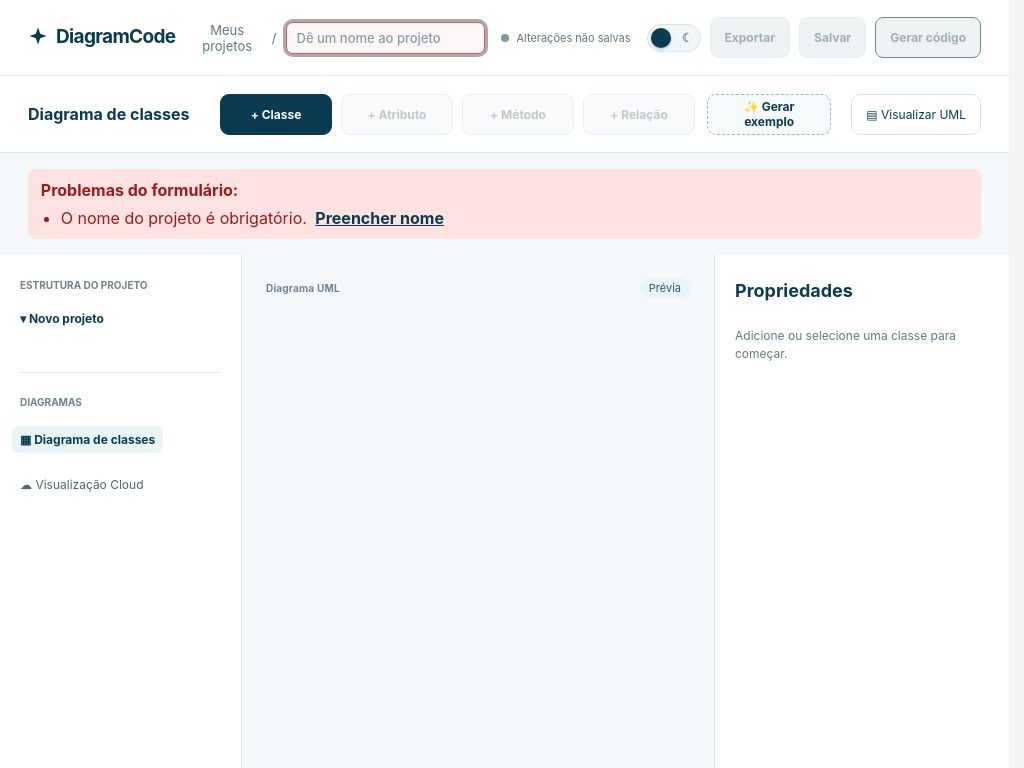
Test: FE-17 — CRUD de classes e seleção › exclui a classe quando o usuário confirma
The image size is (1024, 768).
Click the button "+ Classe" at {"x": 276, "y": 114}, box [220,94,332,134]
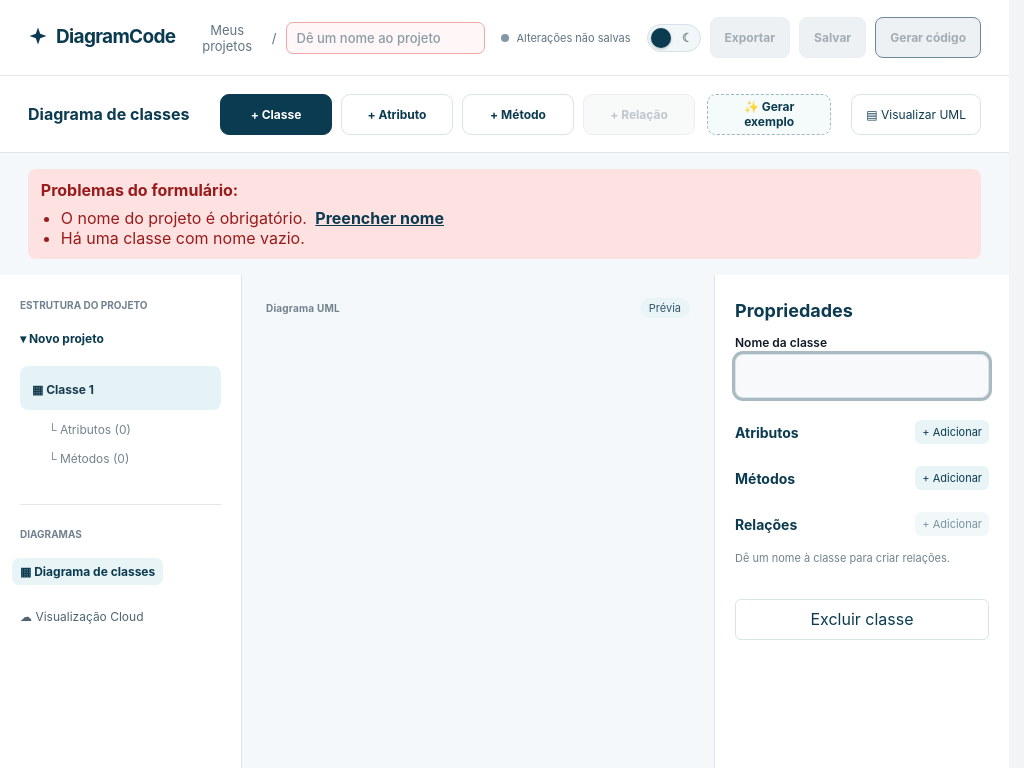
expect the button "Excluir classe" is shown: met
Click the button "Excluir classe" at {"x": 862, "y": 620}, box [735,599,989,640]
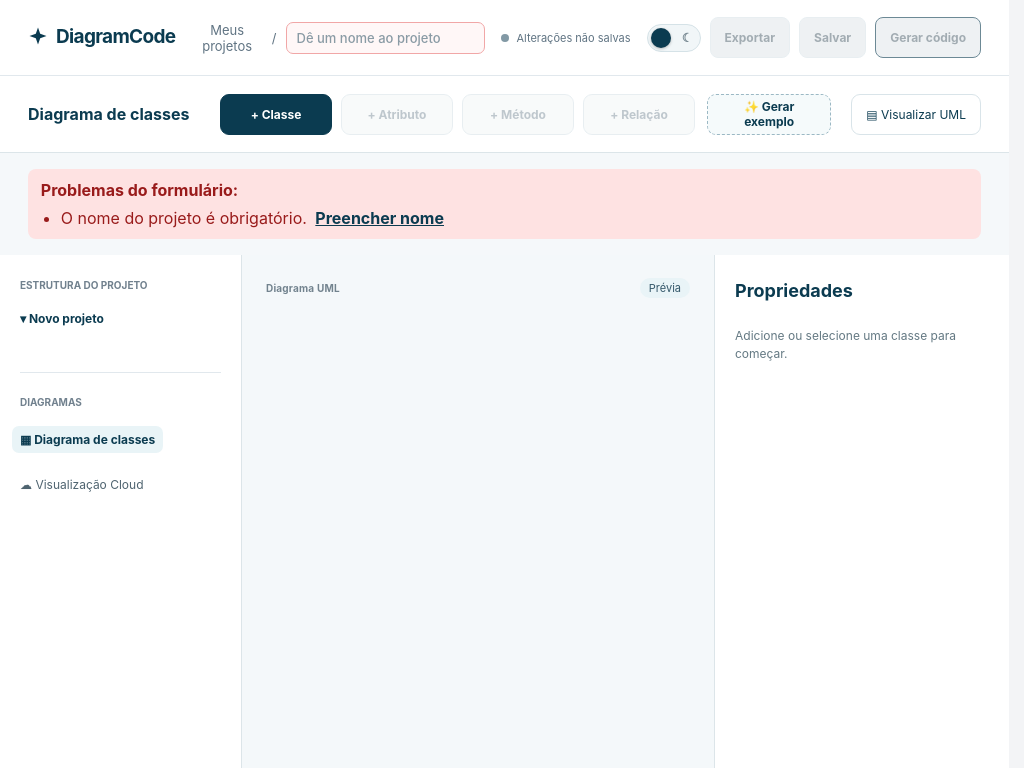
expect no buttons with class "editor-fe15__class-item" are shown: met
